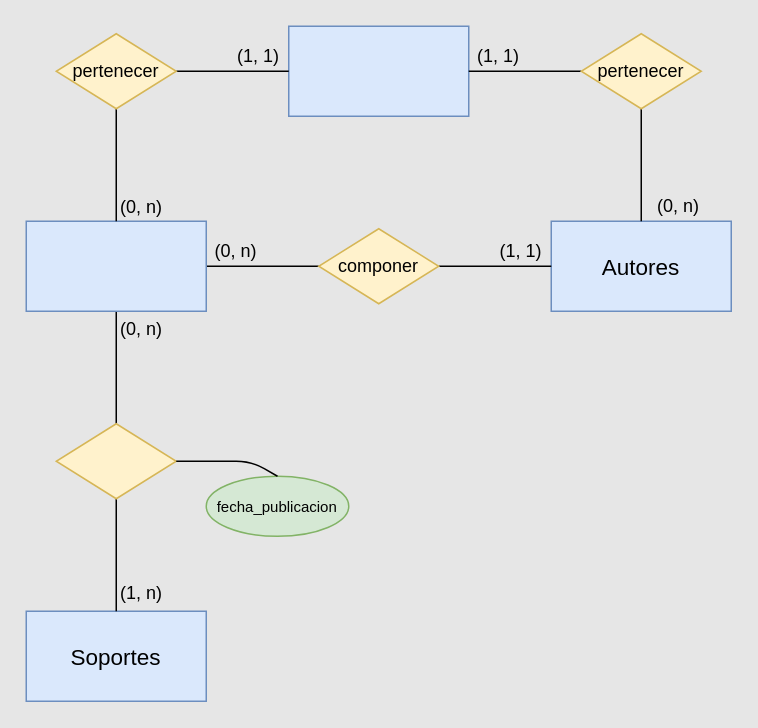
The diagram is 758 pixels wide and 728 high, and some of its shapes have lost their labels. The centre of each missing label's shape, as x and y in pixels:
Generos: point (378, 70)
publicar: point (115, 460)
Titulos: point (115, 265)
